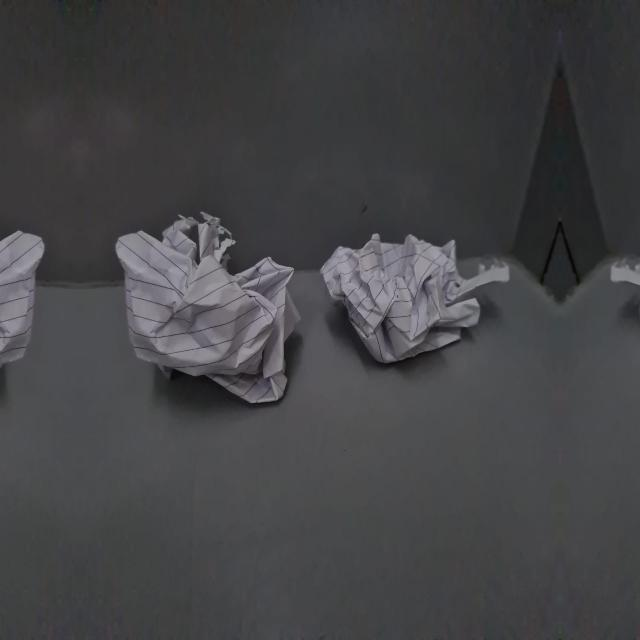paper: (111, 196, 309, 418), (332, 207, 512, 371), (0, 196, 49, 417), (607, 207, 640, 371)
